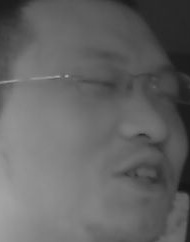blink: (82, 75, 113, 89)
glass: (74, 59, 137, 99)
mouth: (115, 155, 174, 195)
